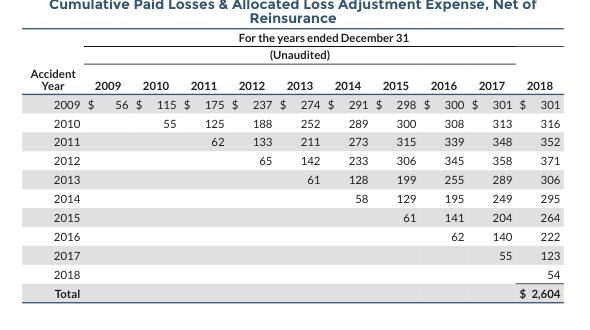table: (29, 29, 559, 299)
table column: (29, 29, 83, 299), (83, 29, 131, 299), (131, 29, 179, 299), (179, 29, 227, 299), (227, 29, 275, 299), (275, 29, 323, 299), (323, 29, 371, 299), (371, 29, 419, 299), (419, 29, 467, 299), (467, 29, 514, 299), (514, 29, 559, 299)
table column header: (29, 29, 559, 93)
table row: (29, 45, 559, 69), (29, 69, 559, 93), (29, 93, 559, 112), (29, 112, 559, 131), (29, 131, 559, 150), (29, 150, 559, 169), (29, 169, 559, 188), (29, 188, 559, 207), (29, 207, 559, 226), (29, 226, 559, 245), (29, 245, 559, 264), (29, 264, 559, 283), (29, 29, 559, 45), (29, 283, 559, 299)
table spanning cell: (83, 45, 514, 69), (83, 29, 559, 45), (29, 29, 83, 93), (514, 45, 559, 93)
